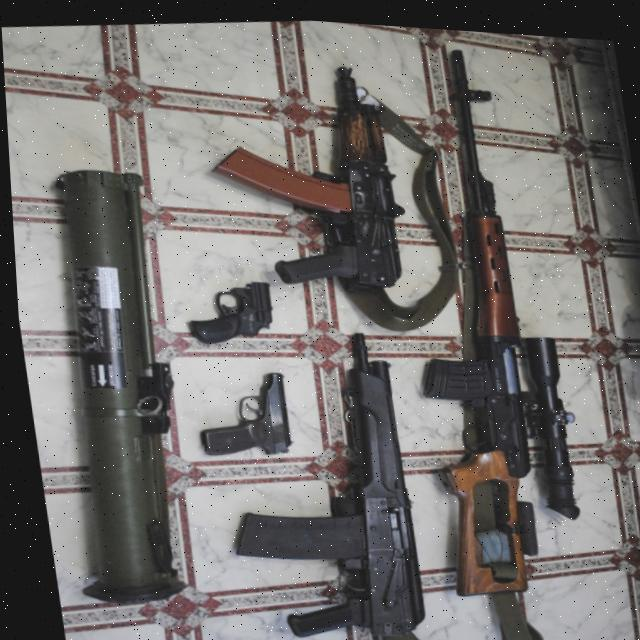firearm: (372, 31, 595, 599), (200, 318, 422, 640), (194, 51, 403, 296)
pistol: (183, 364, 290, 457), (177, 273, 273, 345)
rocket: (21, 160, 198, 609)
